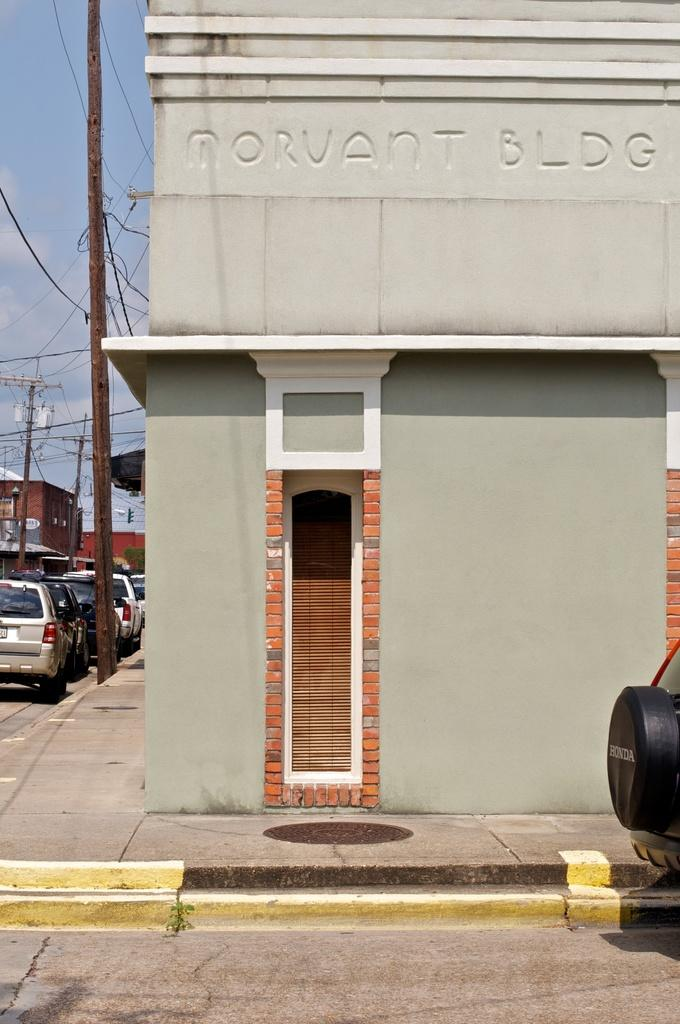Car: (0, 577, 85, 694), (65, 566, 140, 646)
